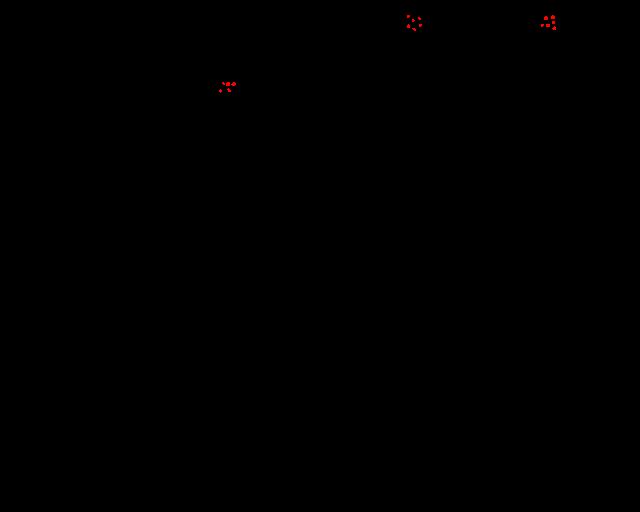Target: (231, 82, 236, 86), (551, 15, 555, 19), (544, 16, 548, 20), (552, 26, 556, 30), (226, 82, 230, 86), (227, 88, 231, 92), (407, 24, 410, 28), (546, 24, 550, 27), (412, 28, 416, 31), (219, 89, 222, 93), (407, 15, 410, 18), (418, 17, 421, 20), (412, 19, 415, 22), (552, 21, 555, 24), (419, 24, 422, 27), (541, 24, 544, 27), (222, 82, 225, 85)
